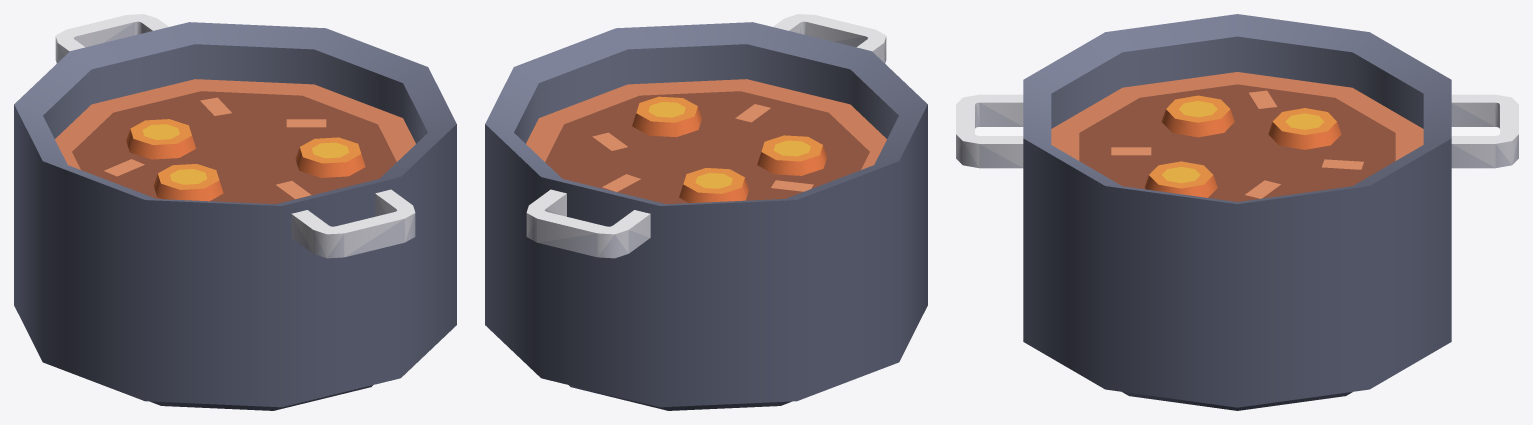
File: panela.glb
3 views of the same model, side by side, from view 1: azimuth 30°, elevation 25°; view 2: azimuth 150°, elevation 25°; view 3: azimuth 270°, elevation 25° (orthographic).
Parts seen in each view (by area): view 1: pot-stew; view 2: pot-stew; view 3: pot-stew.
Part boxes in pixels (x1,y1,x2,y2): pot-stew: (14, 14, 456, 410); pot-stew: (485, 14, 927, 410); pot-stew: (956, 14, 1518, 410).
Size of the model in its own units: 0.6575 by 0.3608 by 0.8221.
